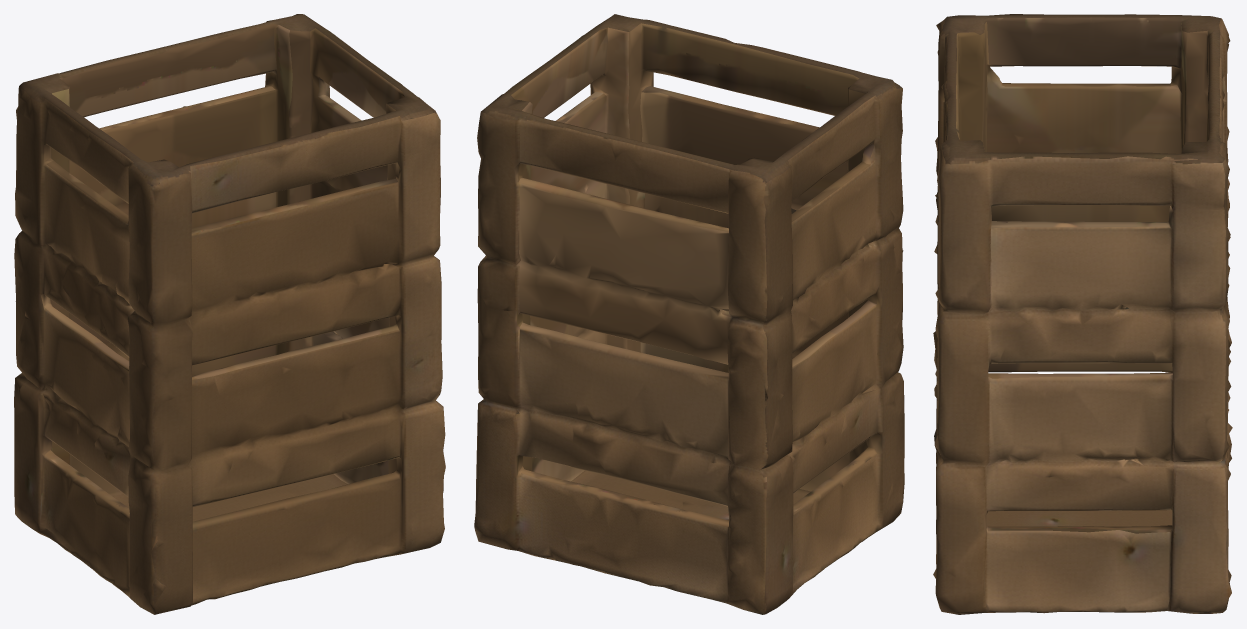
File: cajones.glb
3 views of the same model, side by side, from view 1: azimuth 30°, elevation 25°; view 2: azimuth 150°, elevation 25°; view 3: azimuth 270°, elevation 25° (orthographic). The views are drawn at different scales.
Parts seen in each view (by area): view 1: temp_mesh.ply; view 2: temp_mesh.ply; view 3: temp_mesh.ply.
Boxes of the visible parts, x1,y1,x2,y2 form: temp_mesh.ply: (14, 14, 445, 614); temp_mesh.ply: (474, 14, 904, 614); temp_mesh.ply: (933, 14, 1232, 614).
Size of the model in its own units: 0.7844 by 1.1 by 0.6535.
Materials: 1 (1 with a texture image).
